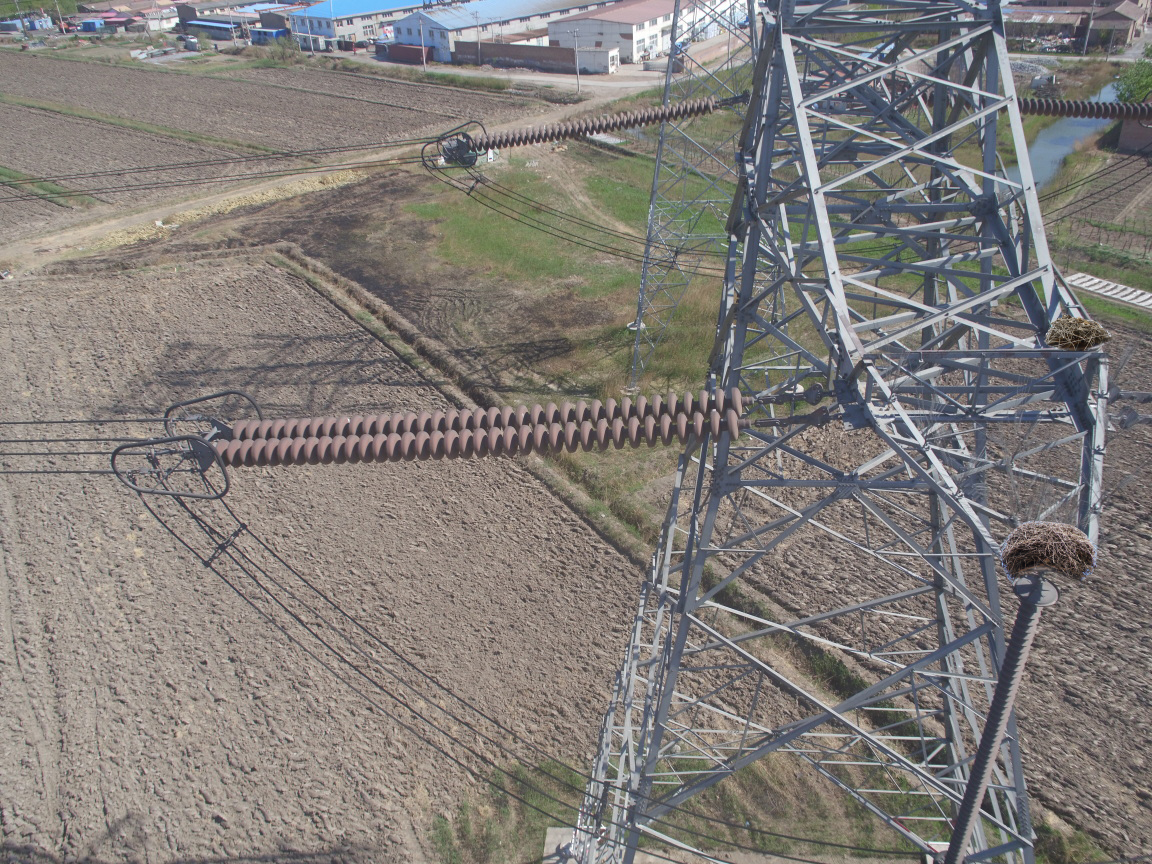nest: (988, 512, 1100, 584), (1041, 311, 1115, 352)
